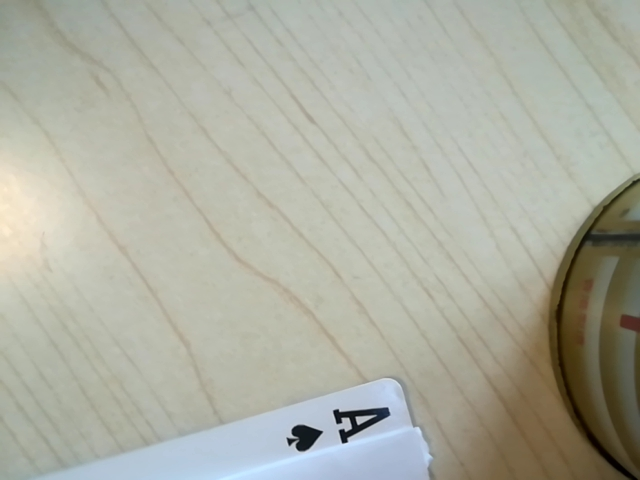ht a: (261, 397, 407, 466)
